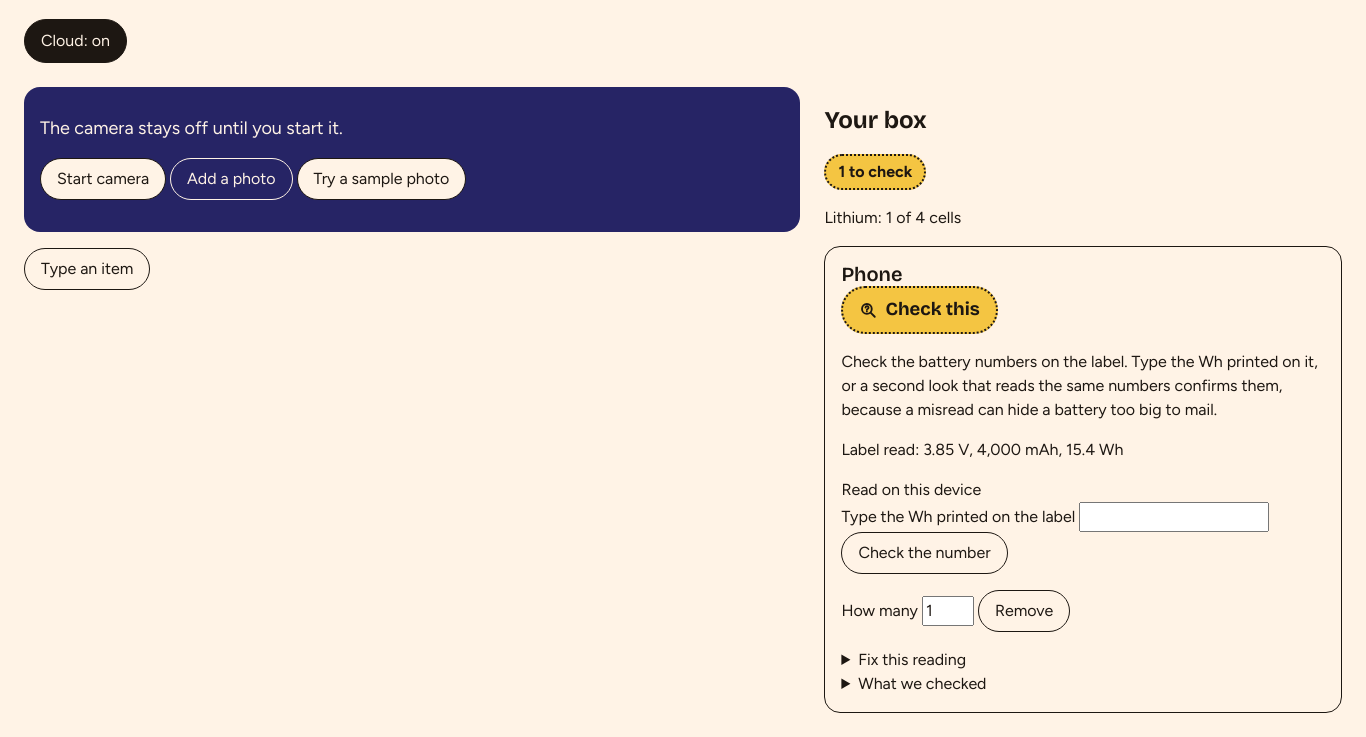
PackPage › asks for the Wh printed on the label of a held photo read, and judges the item on the sender's number
(page scrolled)
expect the element with test id "verdict-chip" reads "Check this": met, box [885,298,980,320]
Type "15.4" into the field labelled "Type the Wh printed on the label" at point(1174, 517), box [1079,502,1269,532]
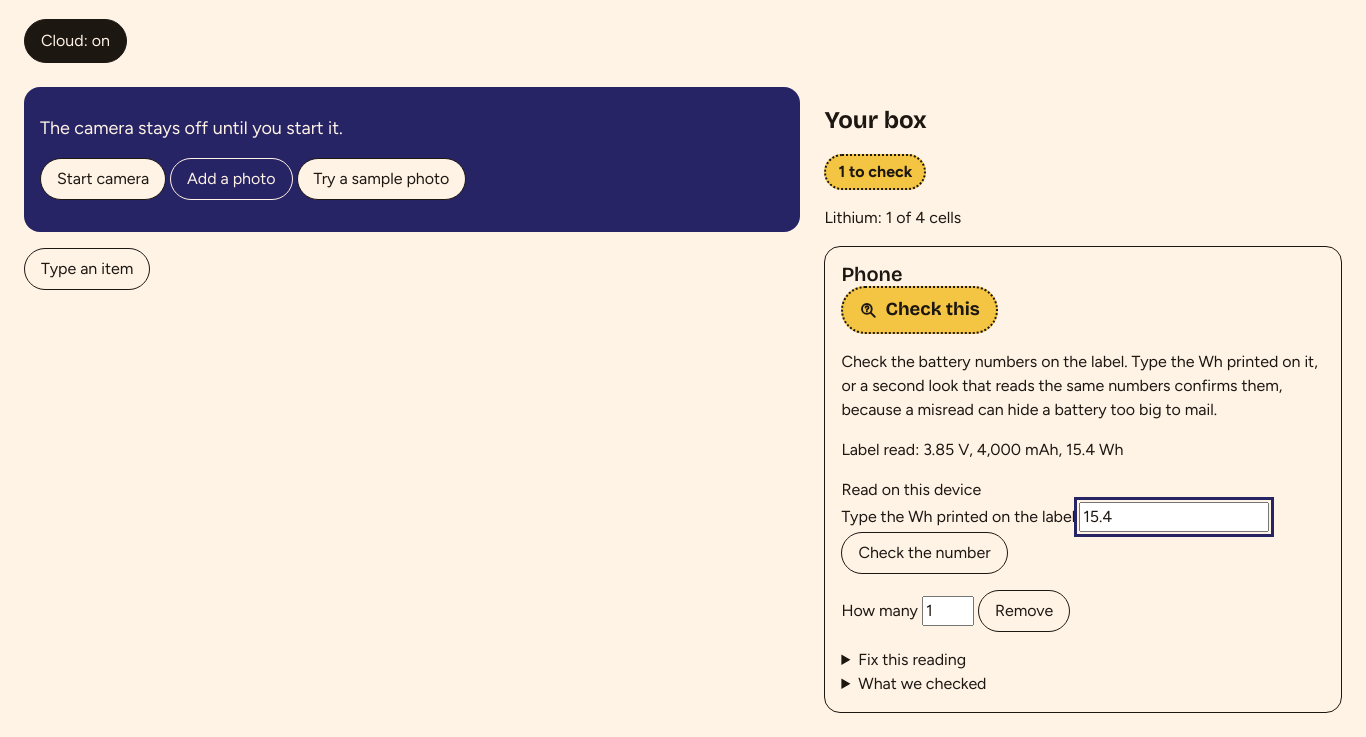
Click the button "Check the number" at point(924, 553), box [841,532,1008,574]
(page scrolled)
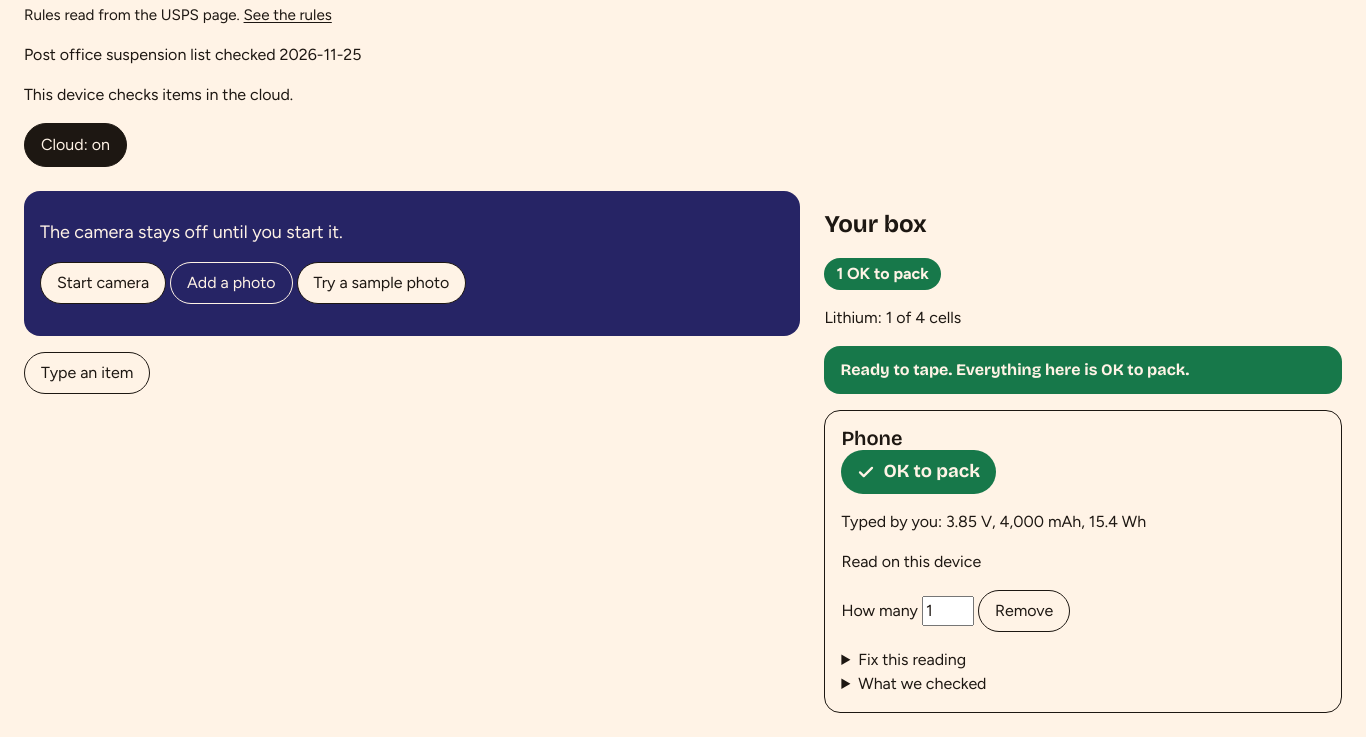
expect the element with test id "verdict-chip" reads "OK to pack": met, box [883,460,980,482]
